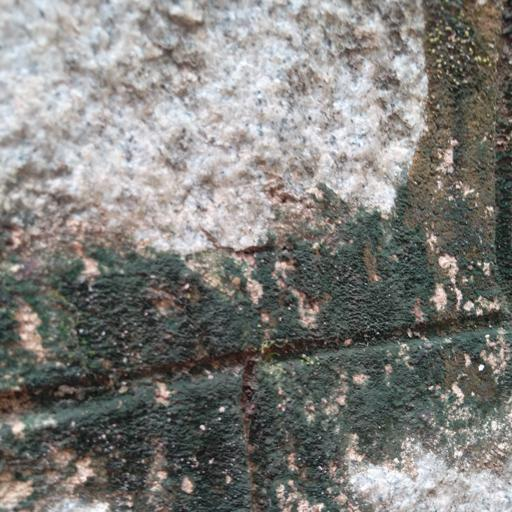algae: (2, 194, 512, 512)
